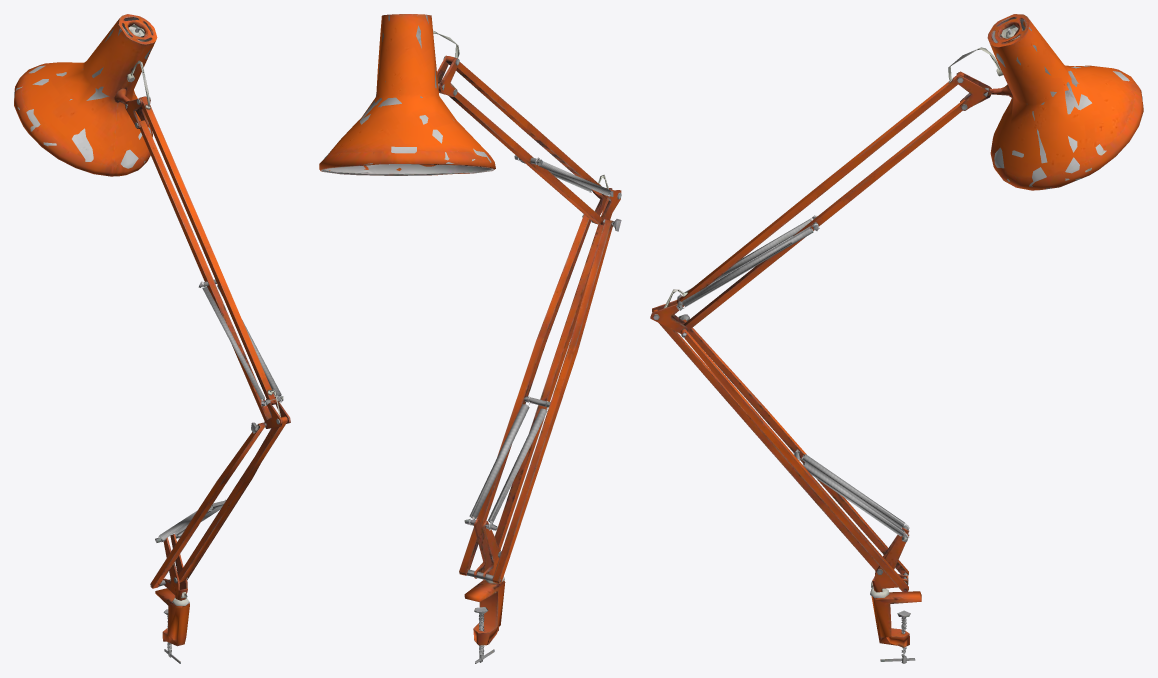
The model's file is desk_lamp_arm_01.lite.glb.
The picture shows the model from 3 angles, left to right: view 1: azimuth 30°, elevation 25°; view 2: azimuth 150°, elevation 25°; view 3: azimuth 270°, elevation 25°; orthographic projection. The views are drawn at different scales.
Visible parts, largest first — view 1: desk_lamp_arm_01; view 2: desk_lamp_arm_01; view 3: desk_lamp_arm_01.
Part boxes in pixels (x1=…): desk_lamp_arm_01: x1=14, y1=14, x2=290, y2=663; desk_lamp_arm_01: x1=319, y1=14, x2=621, y2=663; desk_lamp_arm_01: x1=650, y1=14, x2=1143, y2=663.
Size of the model in its own units: 0.2017 by 0.8926 by 0.6132.
Materials: 2 (2 with a texture image).
